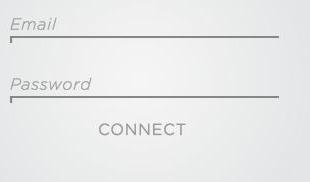field_line: (9, 13, 281, 44), (10, 77, 282, 104)
